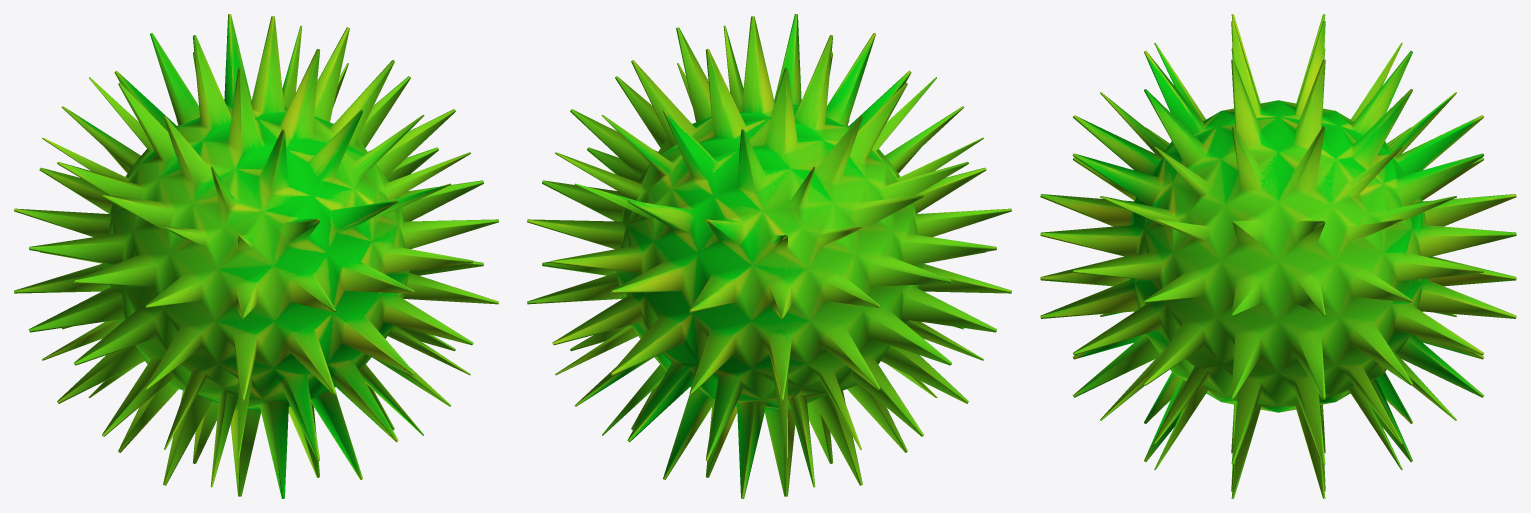
The model's file is SM_H_Chestnut.fbx.
The picture shows the model from 3 angles, left to right: view 1: azimuth 30°, elevation 25°; view 2: azimuth 150°, elevation 25°; view 3: azimuth 270°, elevation 25°; orthographic projection.
Parts seen in each view (by area): view 1: pCube1; view 2: pCube1; view 3: pCube1.
Part boxes in pixels (box(x1,y1,x2,y2)): pCube1: box(14, 14, 498, 498); pCube1: box(527, 14, 1011, 498); pCube1: box(1040, 14, 1516, 498).
Bounding box in the file's own units: 67.9 × 67.9 × 67.9.
Materials: 1 (1 with a texture image).
